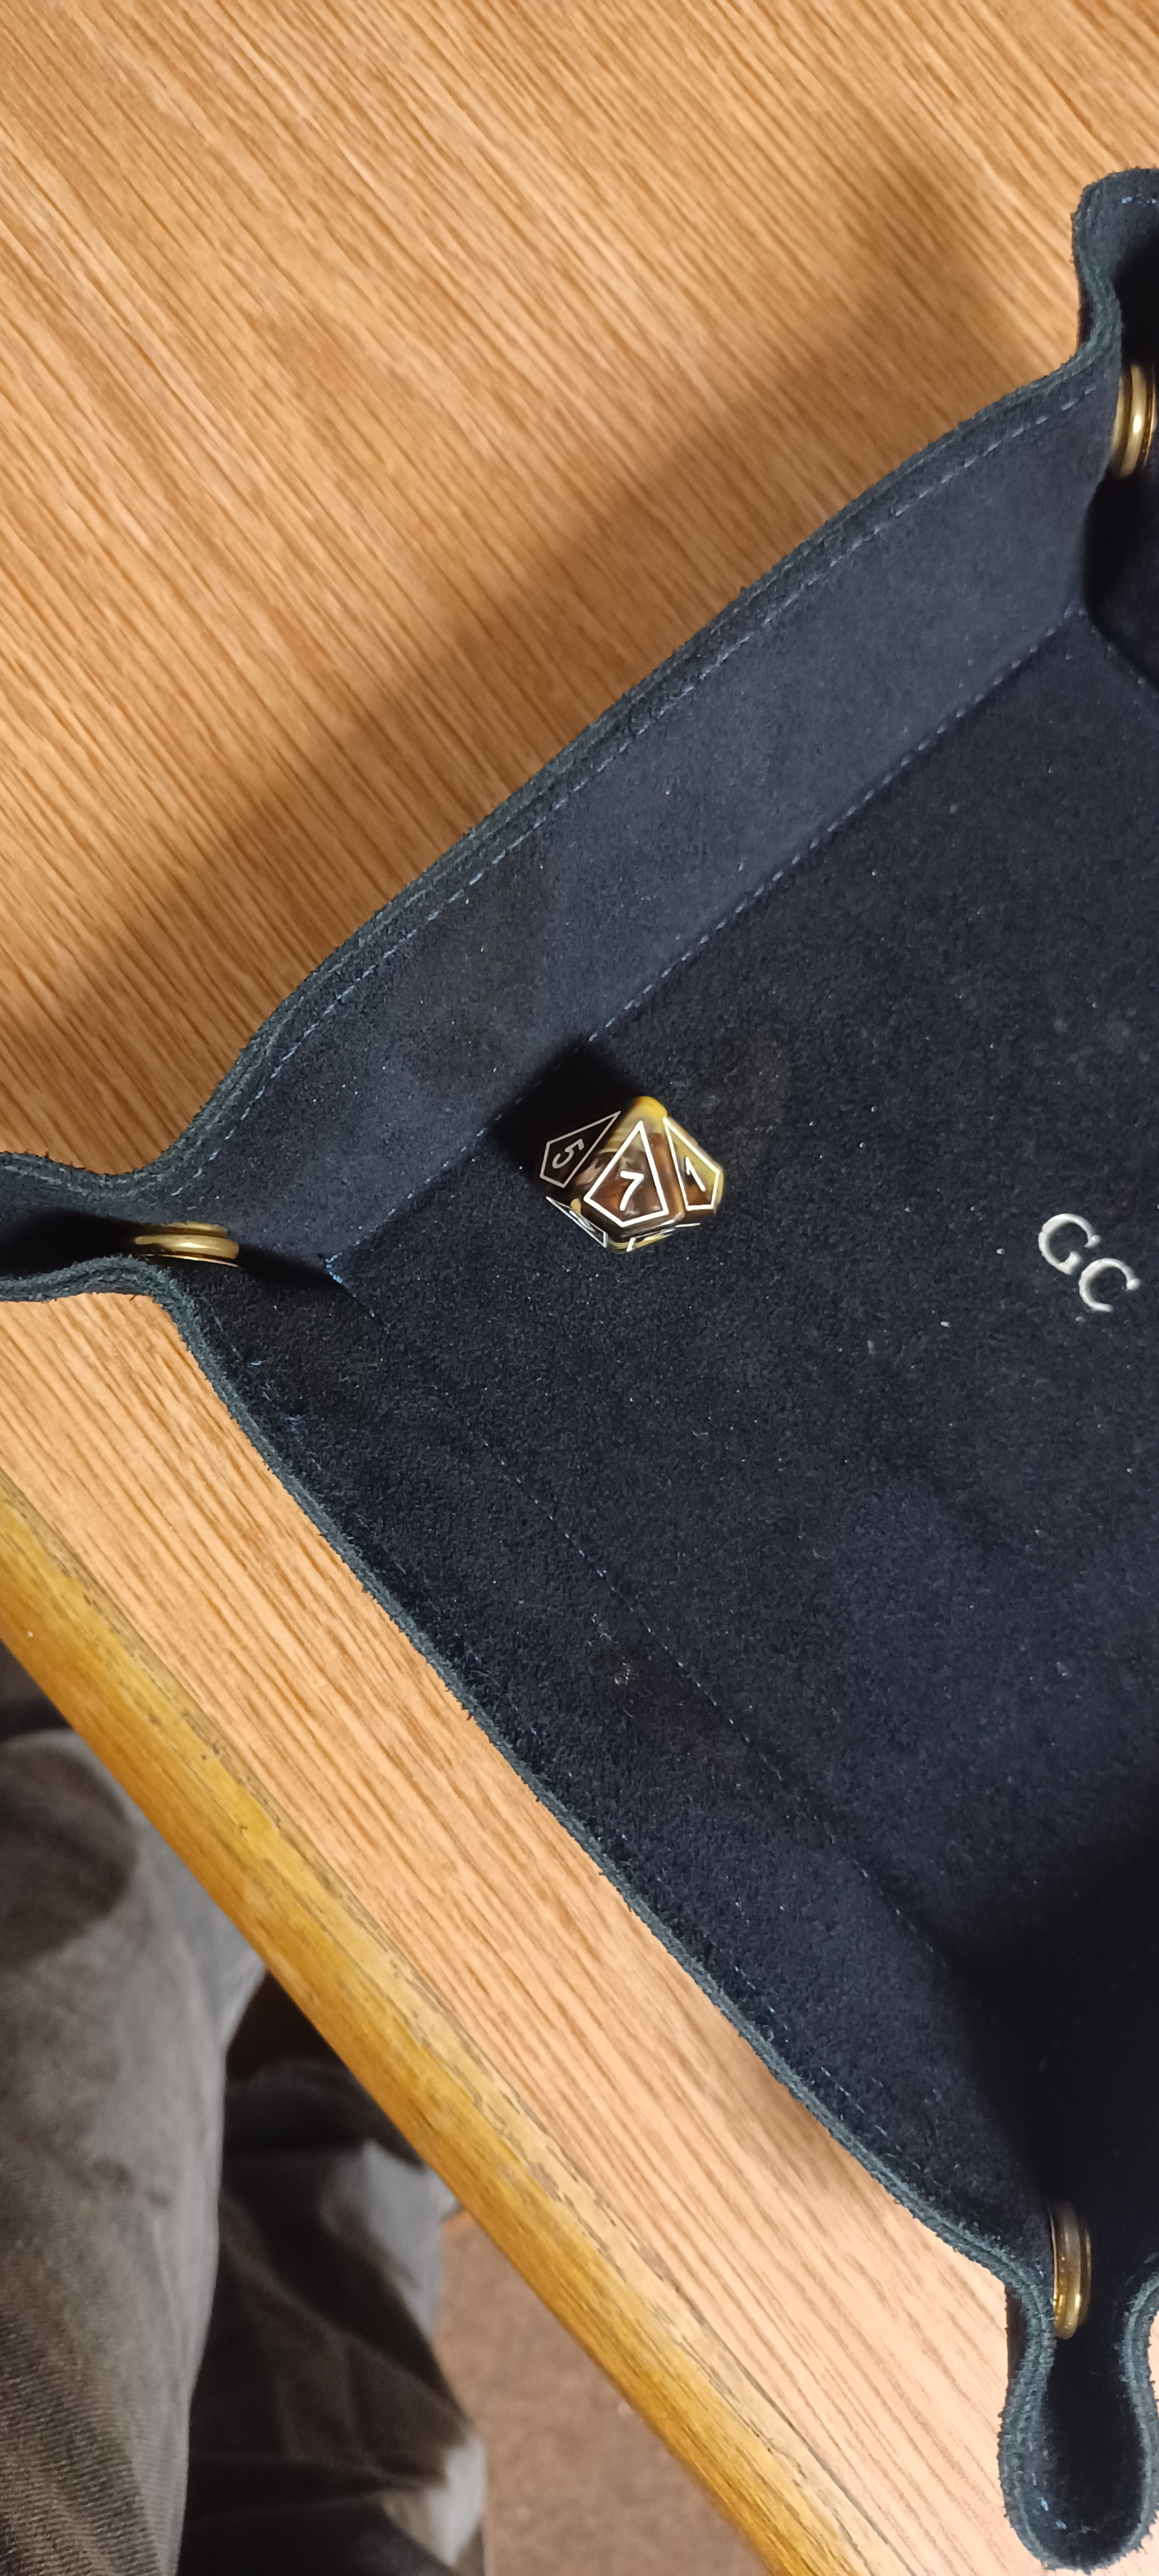seven: (522, 1055, 757, 1290)
